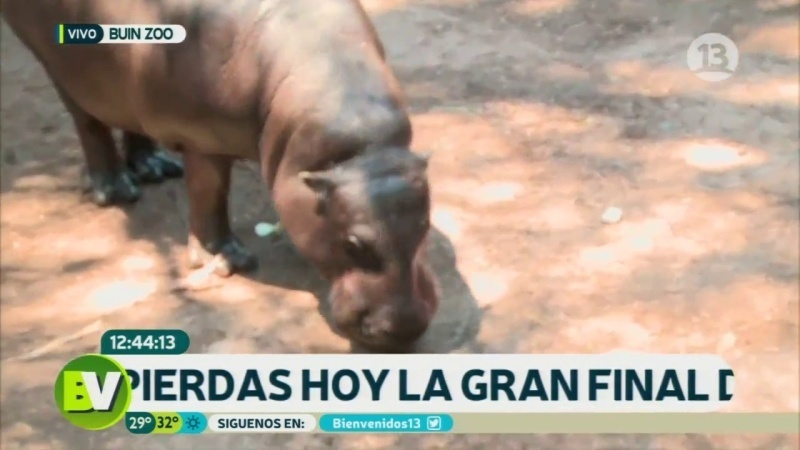hipopotamo: (1, 1, 472, 353)
